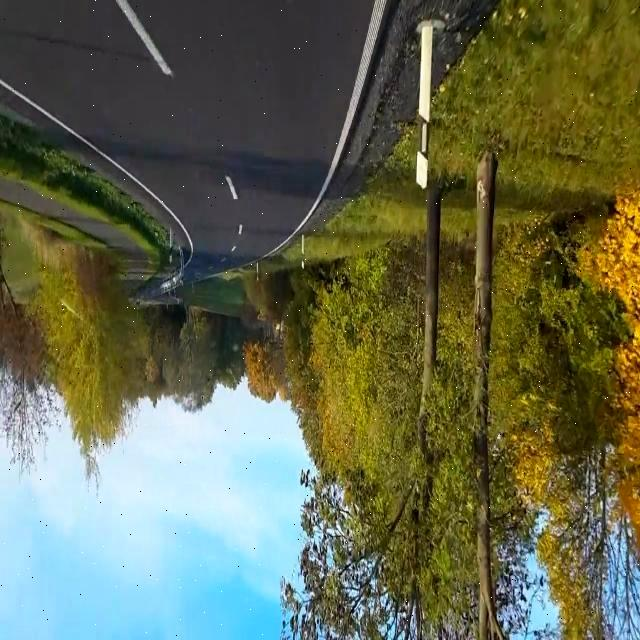lane: (1, 78, 192, 263), (263, 1, 388, 258), (116, 1, 172, 76), (225, 176, 237, 200), (239, 224, 242, 235)
road: (0, 1, 373, 277)
